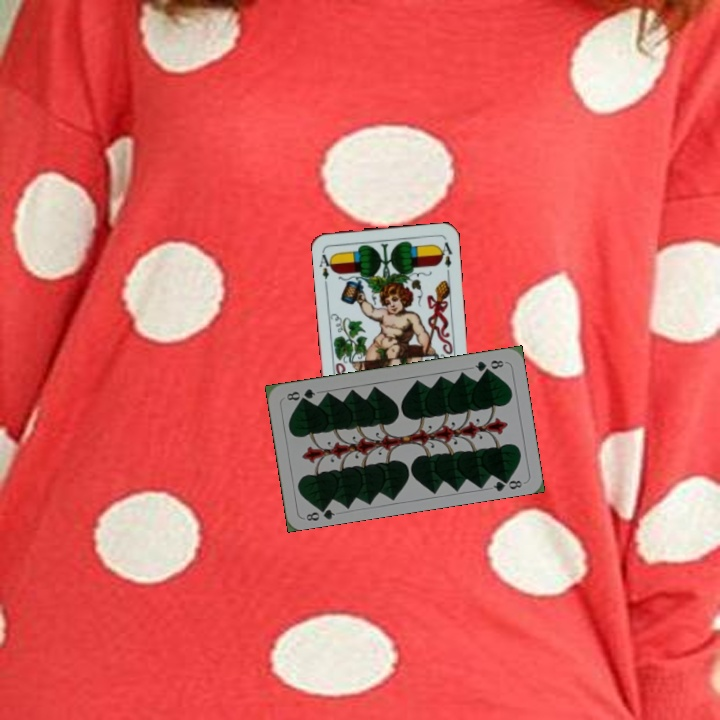EA: (316, 246, 336, 282)
G8: (302, 501, 337, 524), (471, 356, 506, 374)
